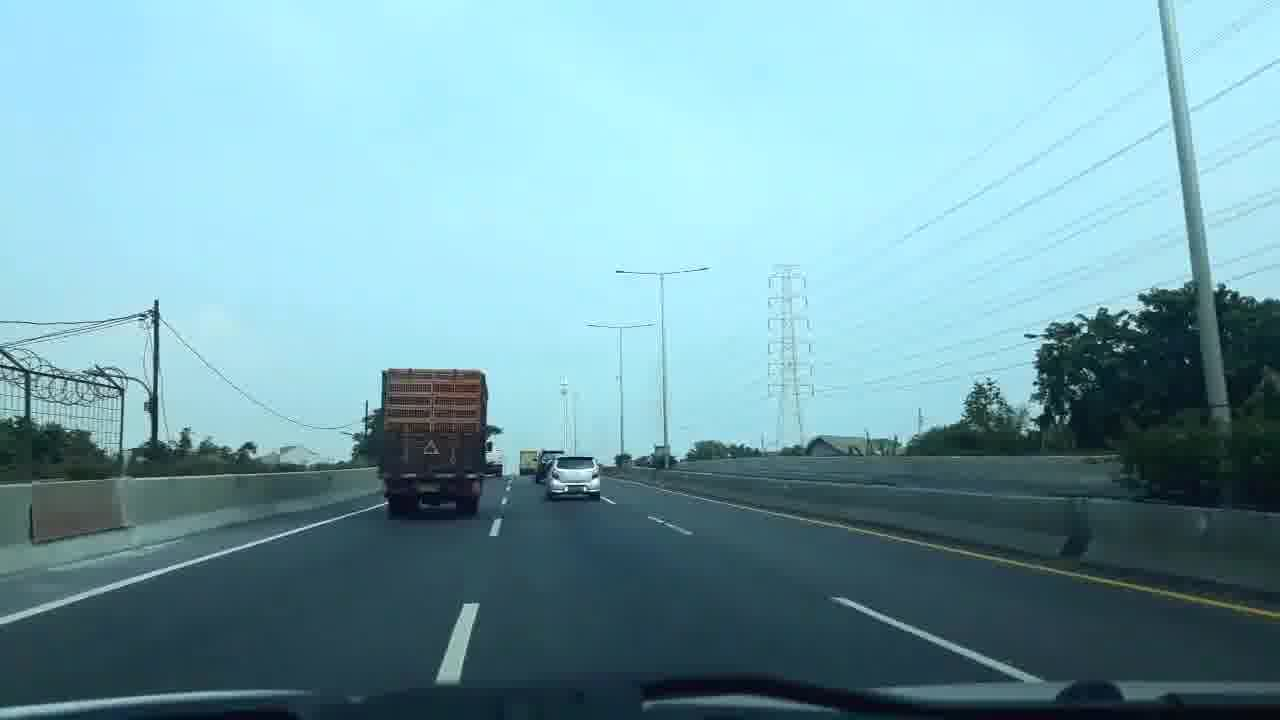plate_positive: (416, 482, 441, 493), (568, 485, 584, 492)
